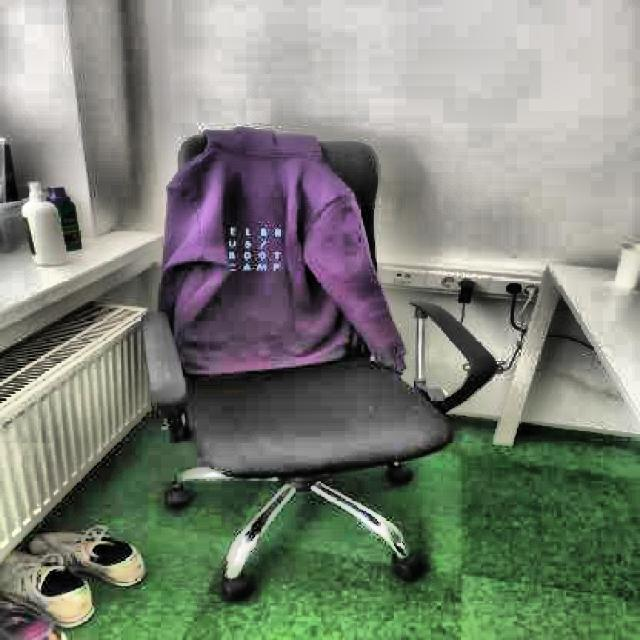cadeira: (122, 117, 507, 597)
